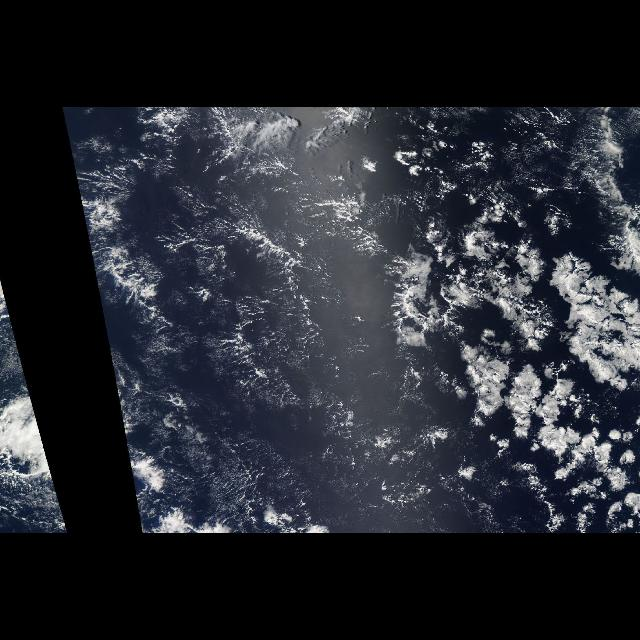Fish: (165, 186, 333, 400)
Flower: (393, 215, 639, 533)
Sugar: (139, 238, 419, 526)
